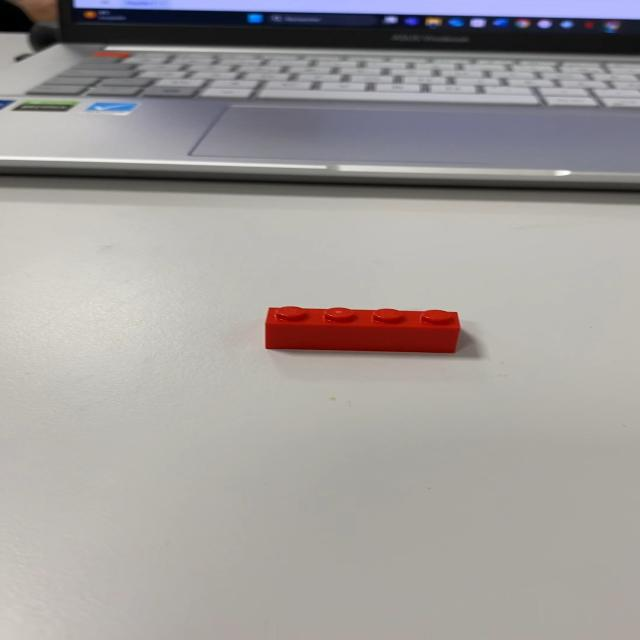P4x2x1: (263, 304, 462, 354)
